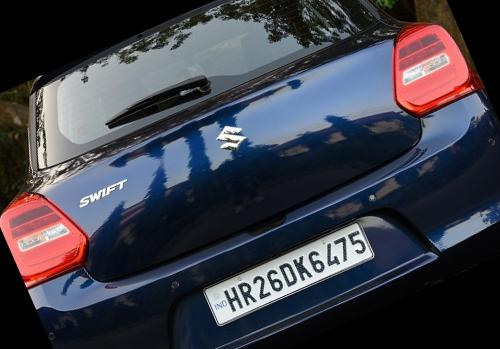plate: (179, 204, 390, 344)
